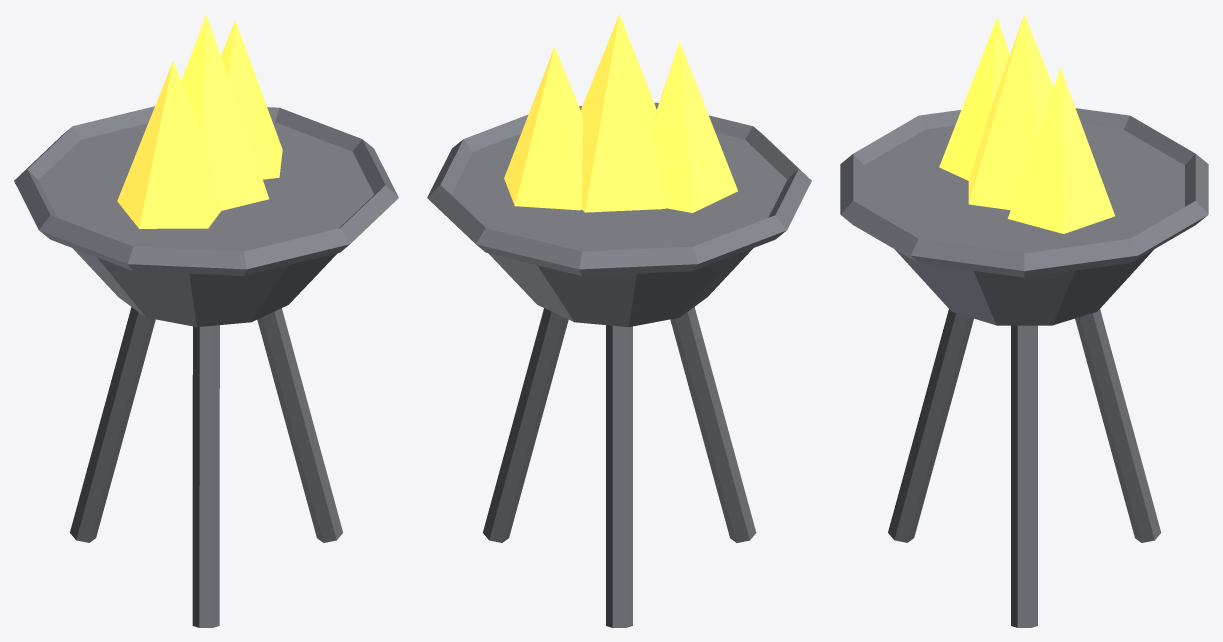
The model's file is SM_Brazier.glb.
The picture shows the model from 3 angles, left to right: view 1: azimuth 30°, elevation 25°; view 2: azimuth 150°, elevation 25°; view 3: azimuth 270°, elevation 25°; orthographic projection.
Parts seen in each view (by area): view 1: SM_Brazier; view 2: SM_Brazier; view 3: SM_Brazier.
Part boxes in pixels (x1,y1,x2,y2): SM_Brazier: (14,14,398,627); SM_Brazier: (427,14,811,627); SM_Brazier: (840,14,1208,627).
Bounding box in the file's own units: 0.86 × 1.36 × 0.8179.
